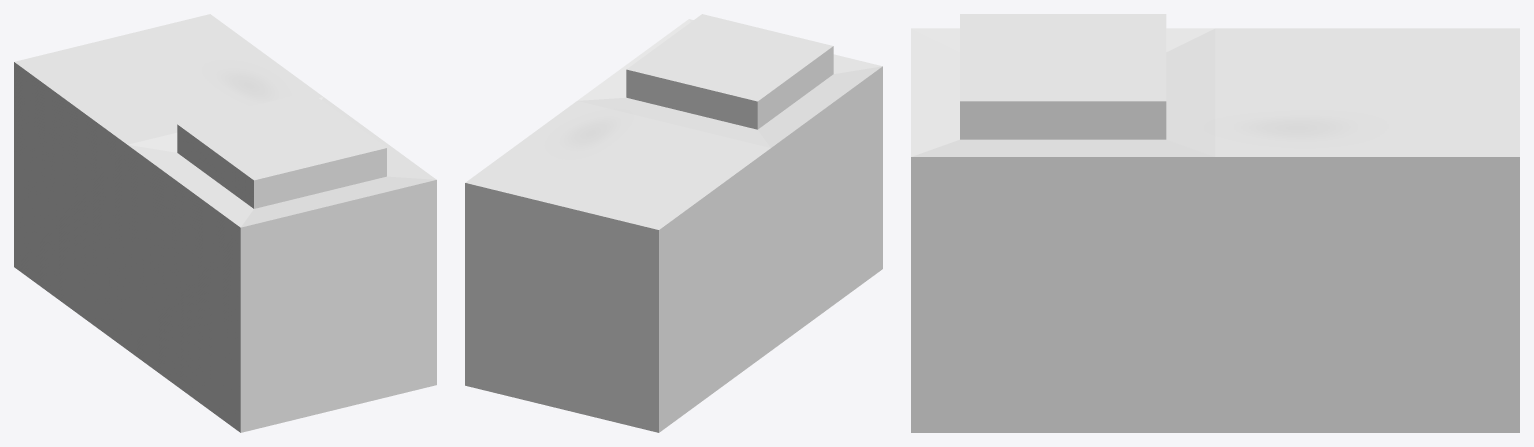
Rendered from StartHouse.obj.
3 renders of one model, left to right at view 1: azimuth 30°, elevation 25°; view 2: azimuth 150°, elevation 25°; view 3: azimuth 270°, elevation 25°, orthographic. The views are drawn at different scales.
Parts seen in each view (by area): view 1: Cube; view 2: Cube; view 3: Cube.
Boxes of the visible parts, <box> form: Cube: <box>14,14,436,432</box>; Cube: <box>465,14,882,432</box>; Cube: <box>911,14,1519,432</box>.
Bounding box in the file's own units: 2 × 2.25 × 4.
Materials: 1 (1 with a texture image).
